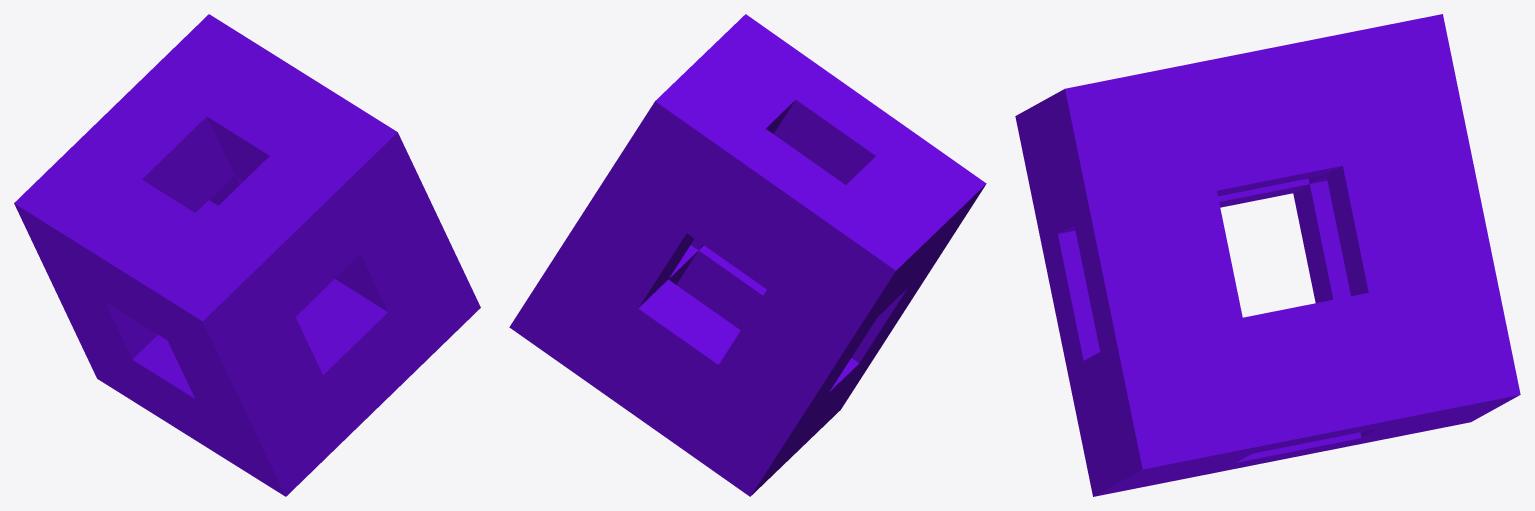
Rendered from EnemyStarts_Nextfortal2.glb.
The picture shows the model from 3 angles, left to right: view 1: azimuth 30°, elevation 25°; view 2: azimuth 150°, elevation 25°; view 3: azimuth 270°, elevation 25°; orthographic projection. The views are drawn at different scales.
Visible parts, largest first — view 1: factoryNextFortal; view 2: factoryNextFortal; view 3: factoryNextFortal.
Part boxes in pixels (<box>): factoryNextFortal: <box>14,14,480,496</box>; factoryNextFortal: <box>509,14,986,496</box>; factoryNextFortal: <box>1015,14,1520,496</box>.
Bounding box in the file's own units: 25.17 × 24.16 × 21.41.
